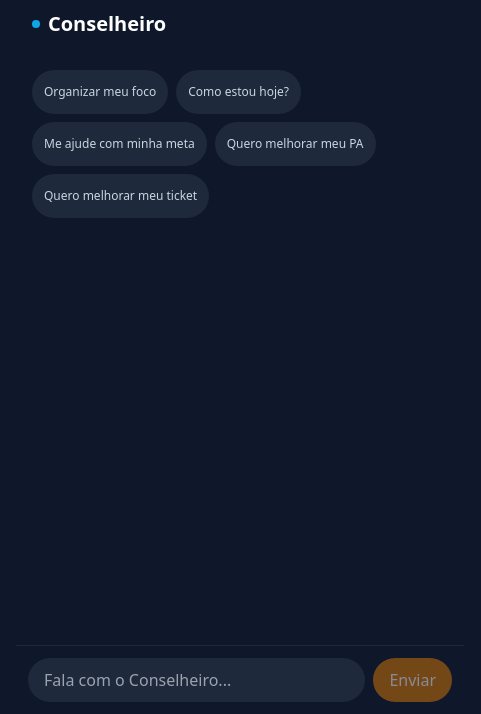
Test: Coach › envia mensagem digitada no input e limpa o campo
In the field with placeholder "Fala com o Conselheiro...": coordinates (197, 680) [28,658,365,702], type "Quero treinar quebra de objeção"
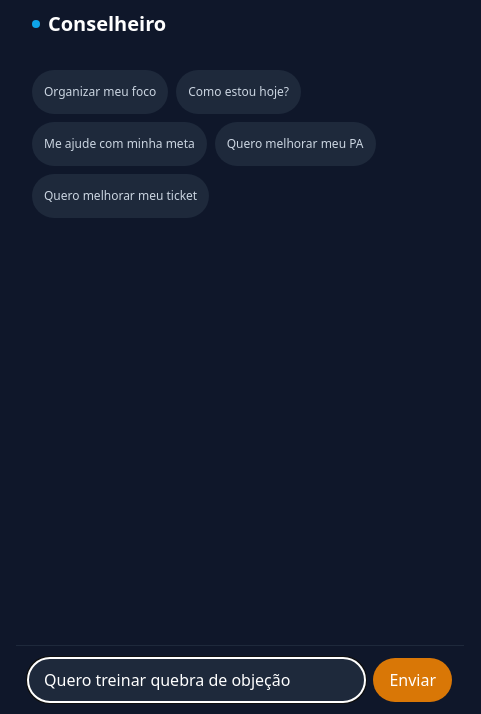
Click the button "Enviar": coordinates (413, 680) [373,658,452,702]
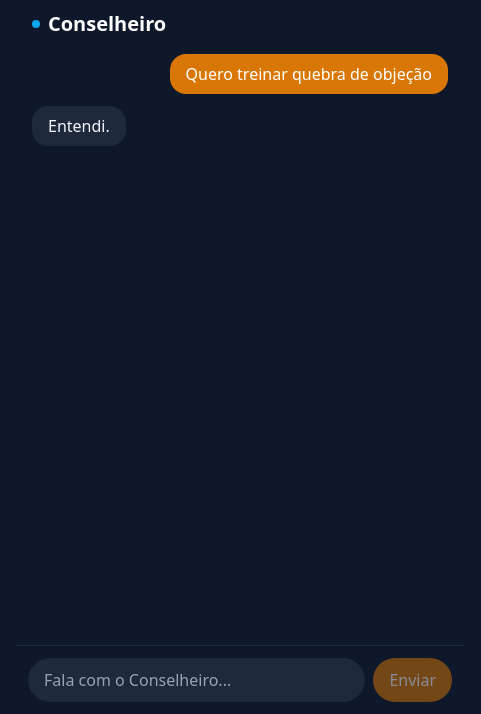
Expected: the field with placeholder "Fala com o Conselheiro..." is empty, [28,658,365,702]
Expected: the text "Entendi." is shown, [48,114,110,138]
